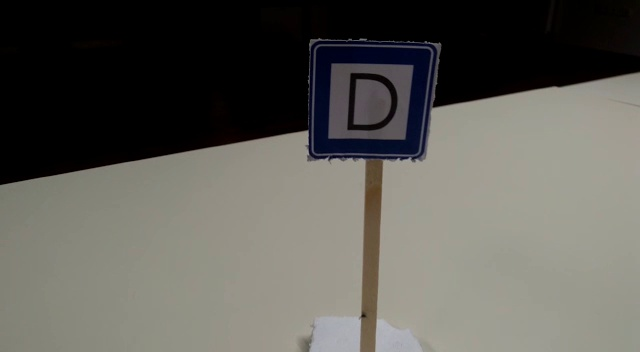durak: (306, 40, 435, 158)
